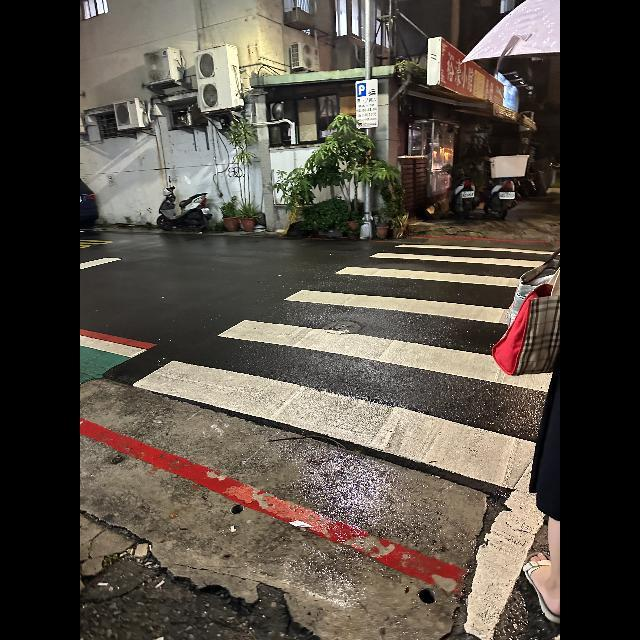sidewalk: (93, 235, 560, 574)
